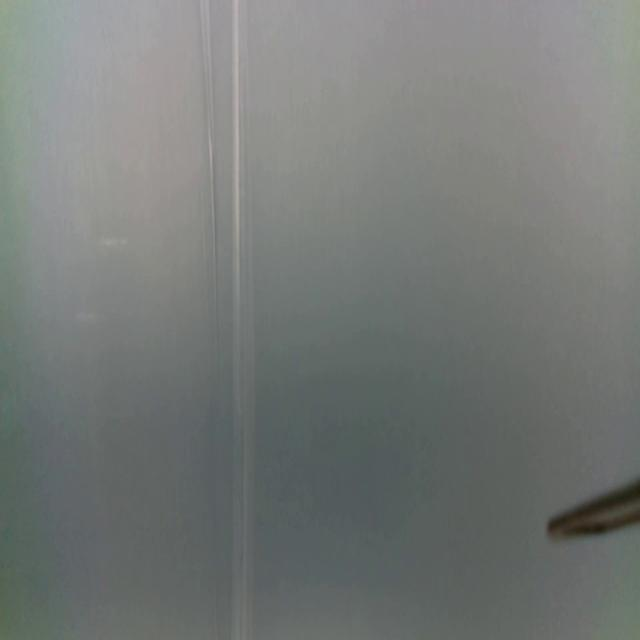crease: (227, 0, 252, 639), (197, 0, 219, 640)
